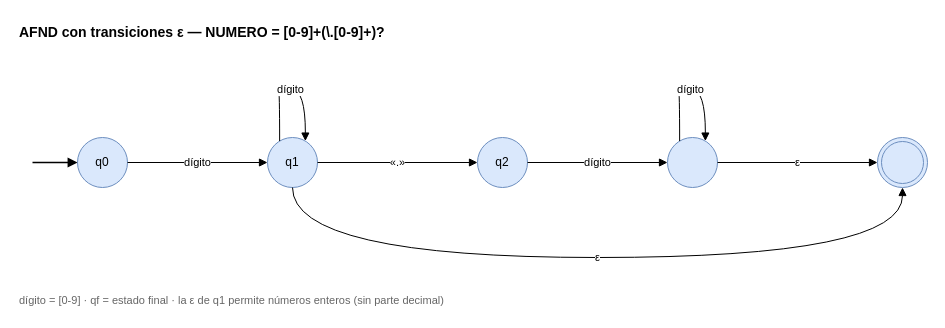
Image size: 945x328. Some labels were removed from this diagram. The shapes that lost their labels are listed below. From the top down, each one's centre as x and y in pixels, then its label:
pixel 692 162: q3
pixel 902 162: qf
